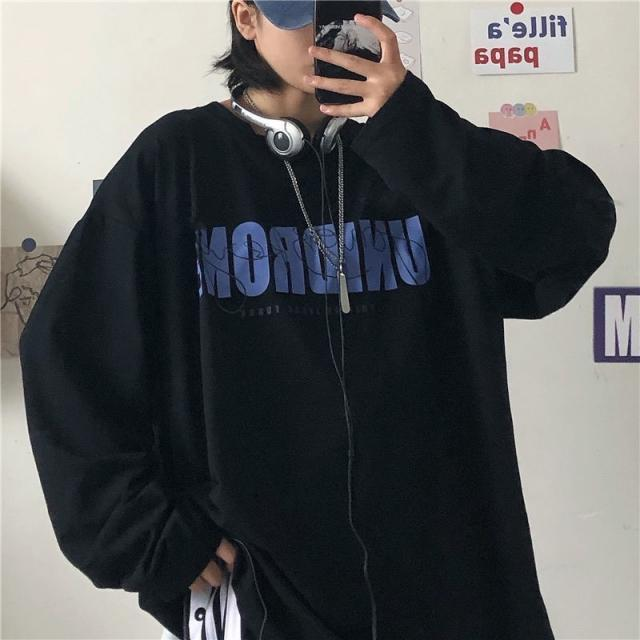Shirt: (18, 72, 616, 639)
